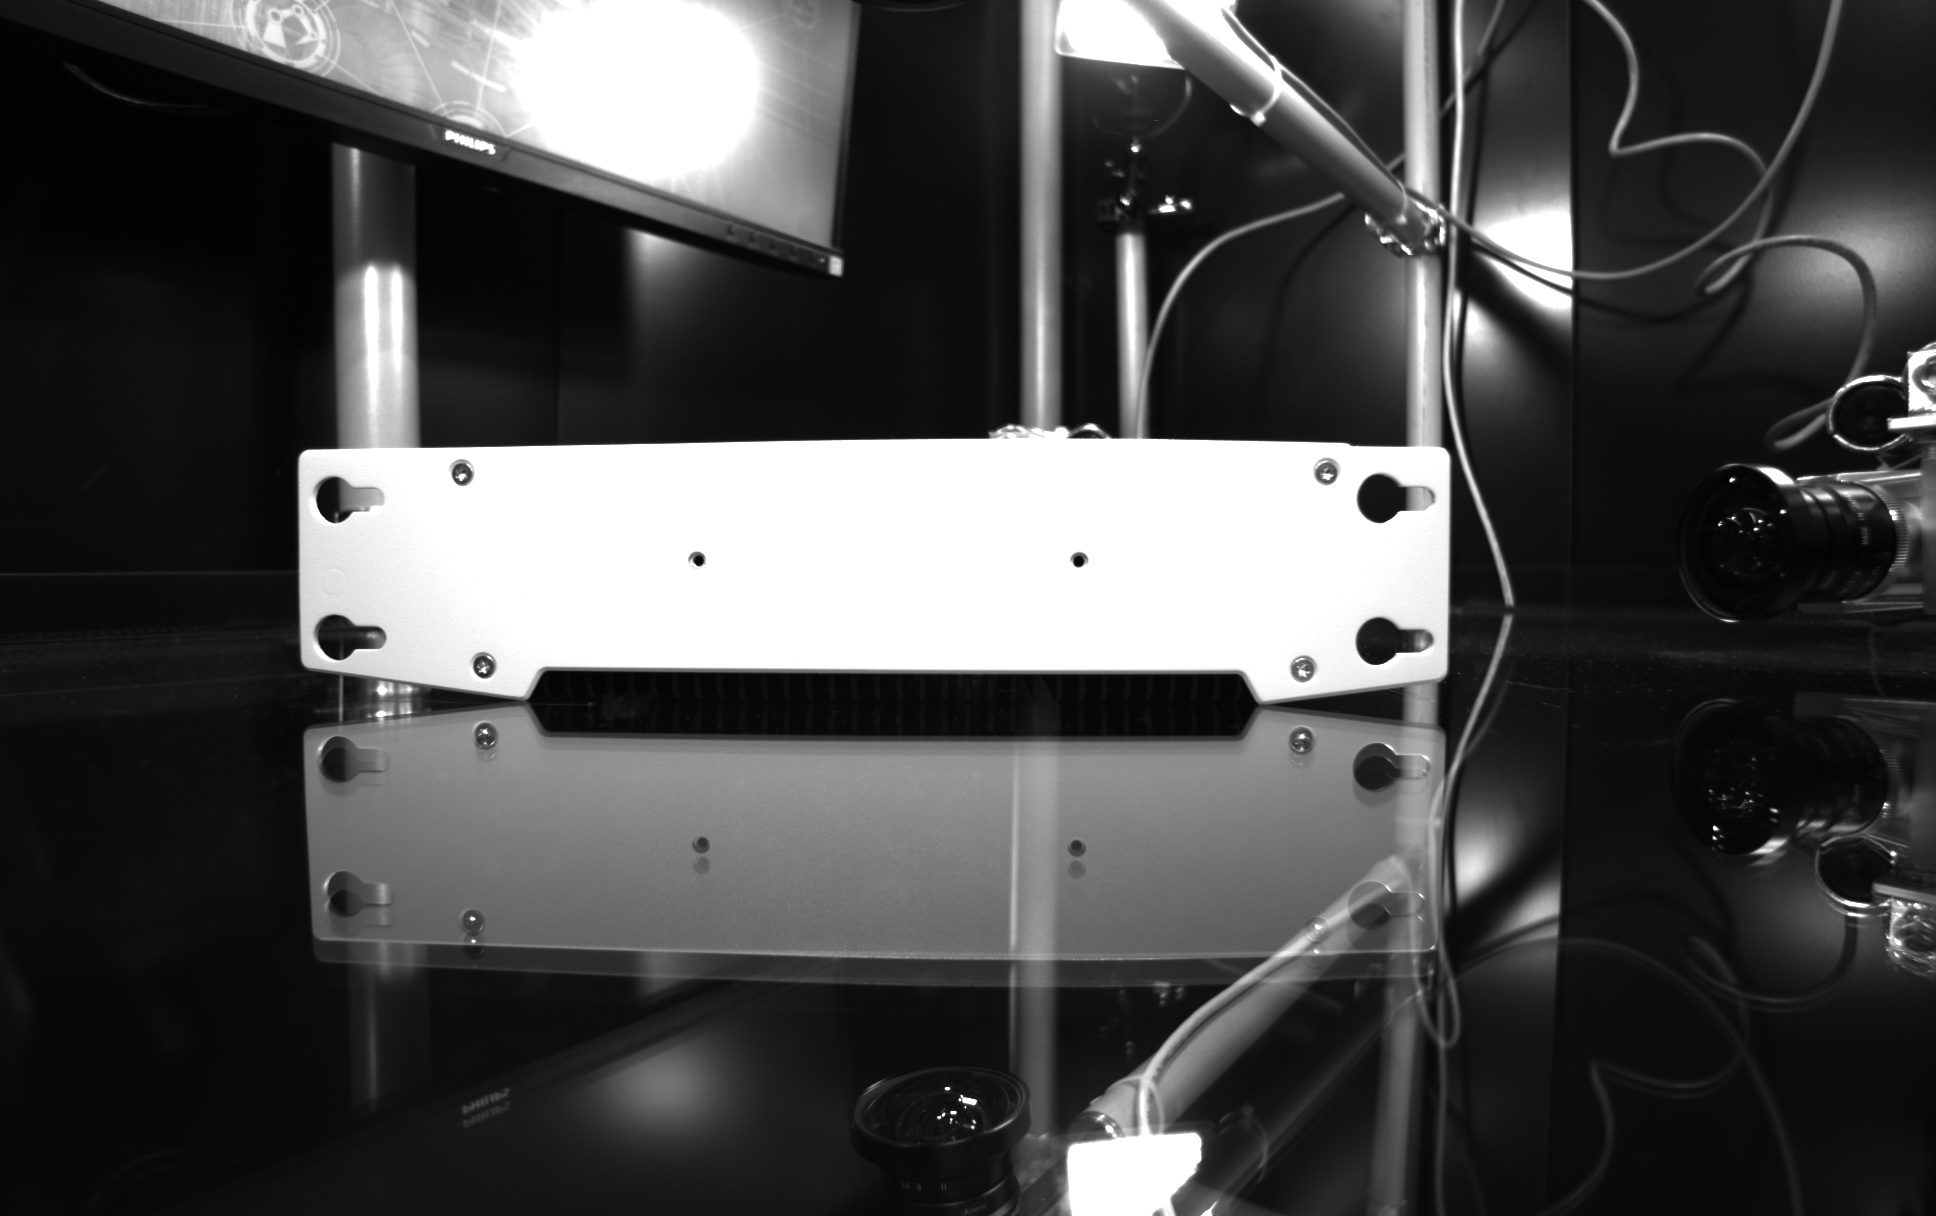CamBack: (270, 409, 1488, 702)
Schraube: (465, 646, 504, 686), (1282, 649, 1321, 689), (441, 452, 480, 492), (1307, 452, 1346, 492)
Schraube_gespiegelt: (1292, 913, 1335, 972), (464, 717, 510, 772), (1276, 721, 1322, 775), (451, 902, 490, 962)
